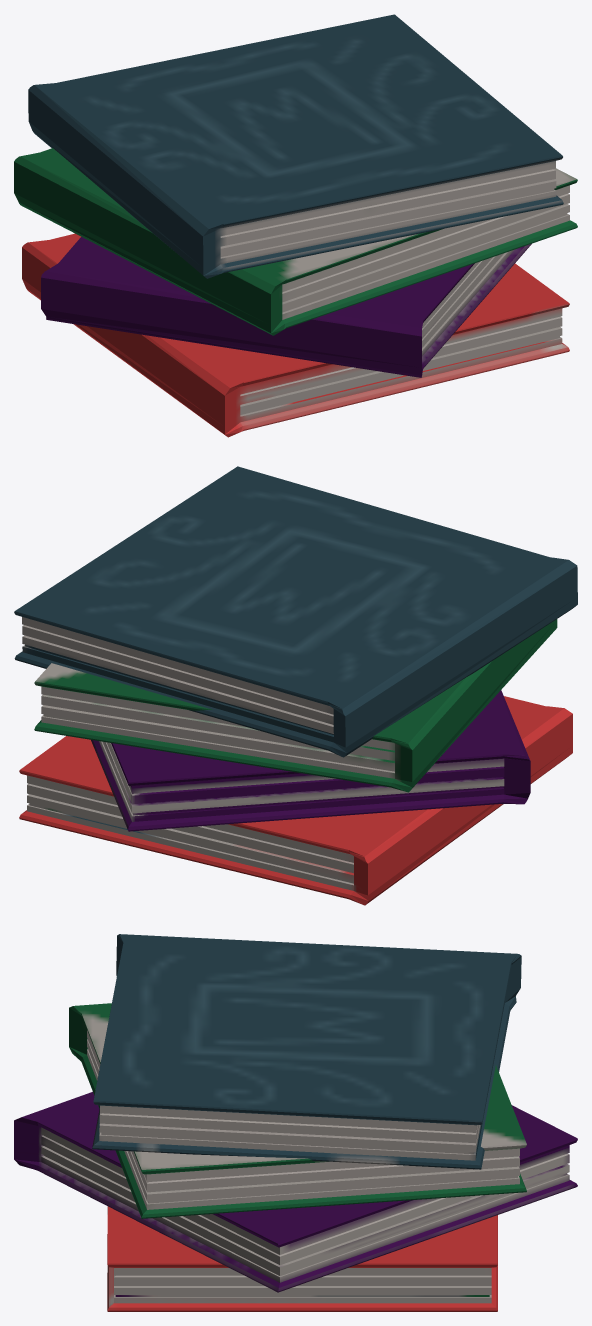
File: books.fbx
3 renders of one model, top to bottom at view 1: azimuth 30°, elevation 25°; view 2: azimuth 150°, elevation 25°; view 3: azimuth 270°, elevation 25°, orthographic.
Visible parts, largest first — view 1: polySurface447; view 2: polySurface447; view 3: polySurface447.
Boxes of the visible parts, box(x1,y1,x2,y2) form: polySurface447: box(14, 14, 577, 437); polySurface447: box(14, 466, 577, 905); polySurface447: box(14, 934, 577, 1311).
Bounding box in the file's own units: 0.7425 × 0.2971 × 0.7416.
Materials: 1 (1 with a texture image).
